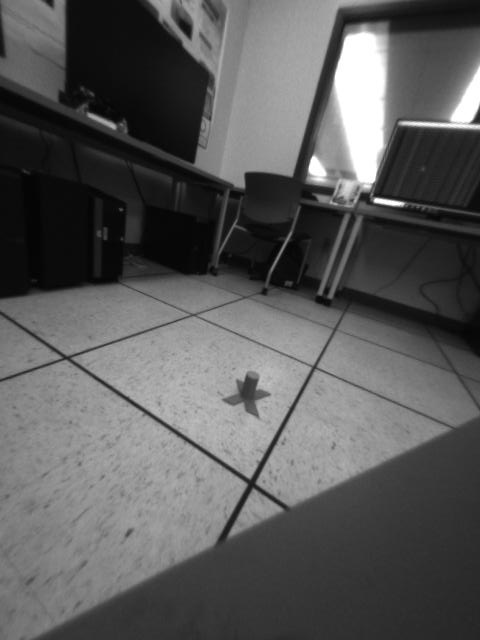X: (222, 371, 272, 419)
